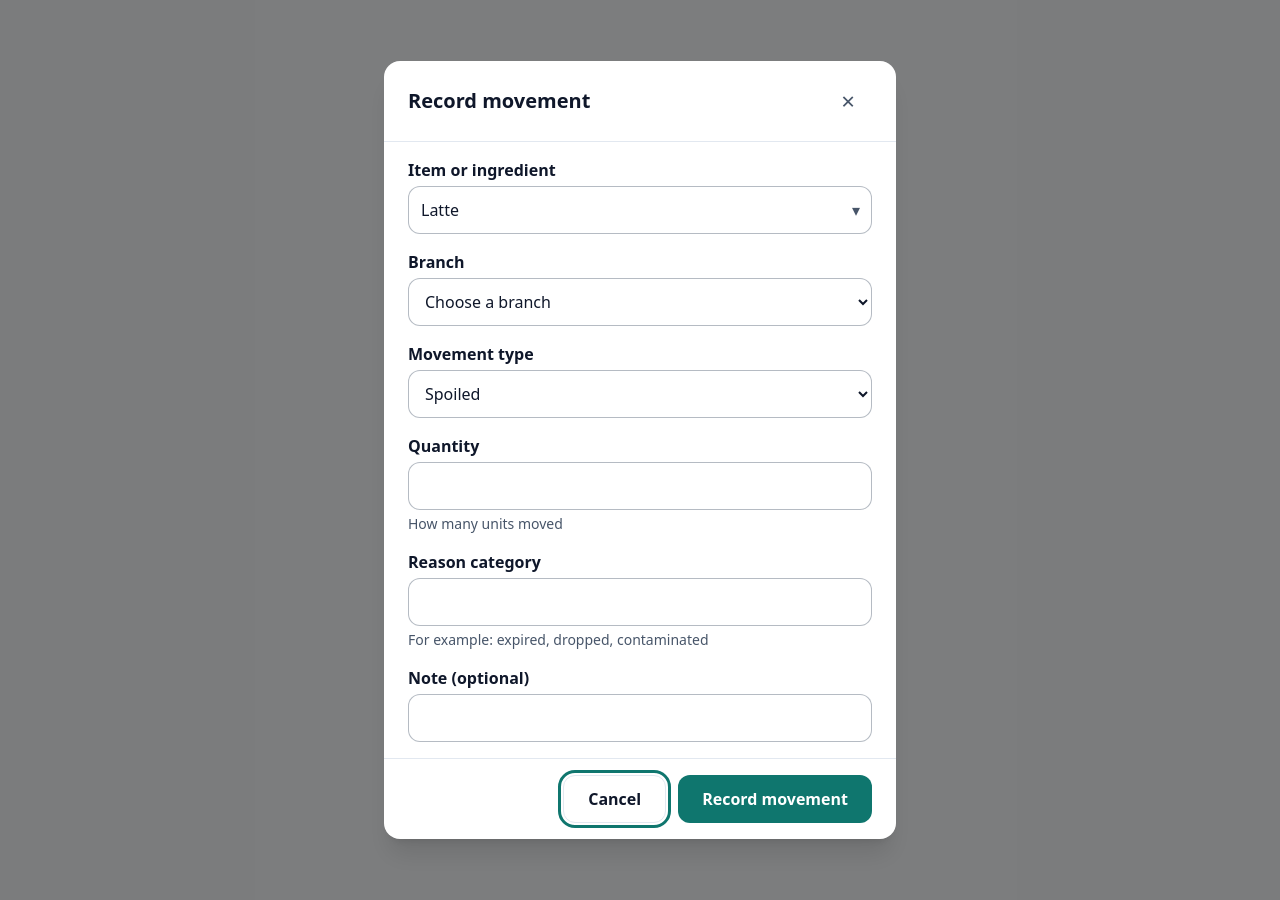
Scenario: RecordMovementDialog › asks for a reason when the movement is spoilage and blocks the send
Select "Katipunan" in the dropdown labelled "Branch". click: x=640, y=302
box: [408,278,872,326]
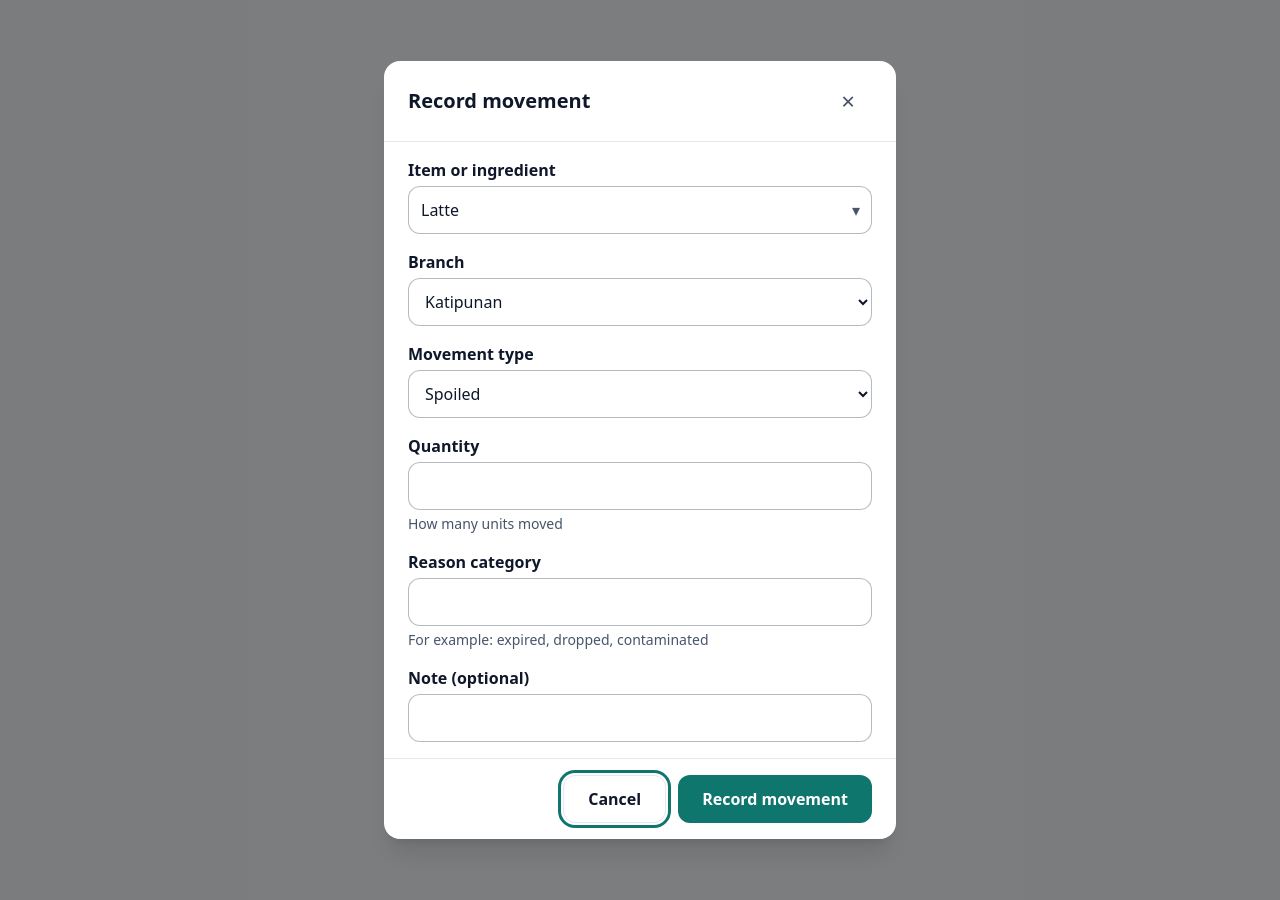
Type "2" into the number field labelled "Quantity". click: x=640, y=486
box: [408,462,872,510]
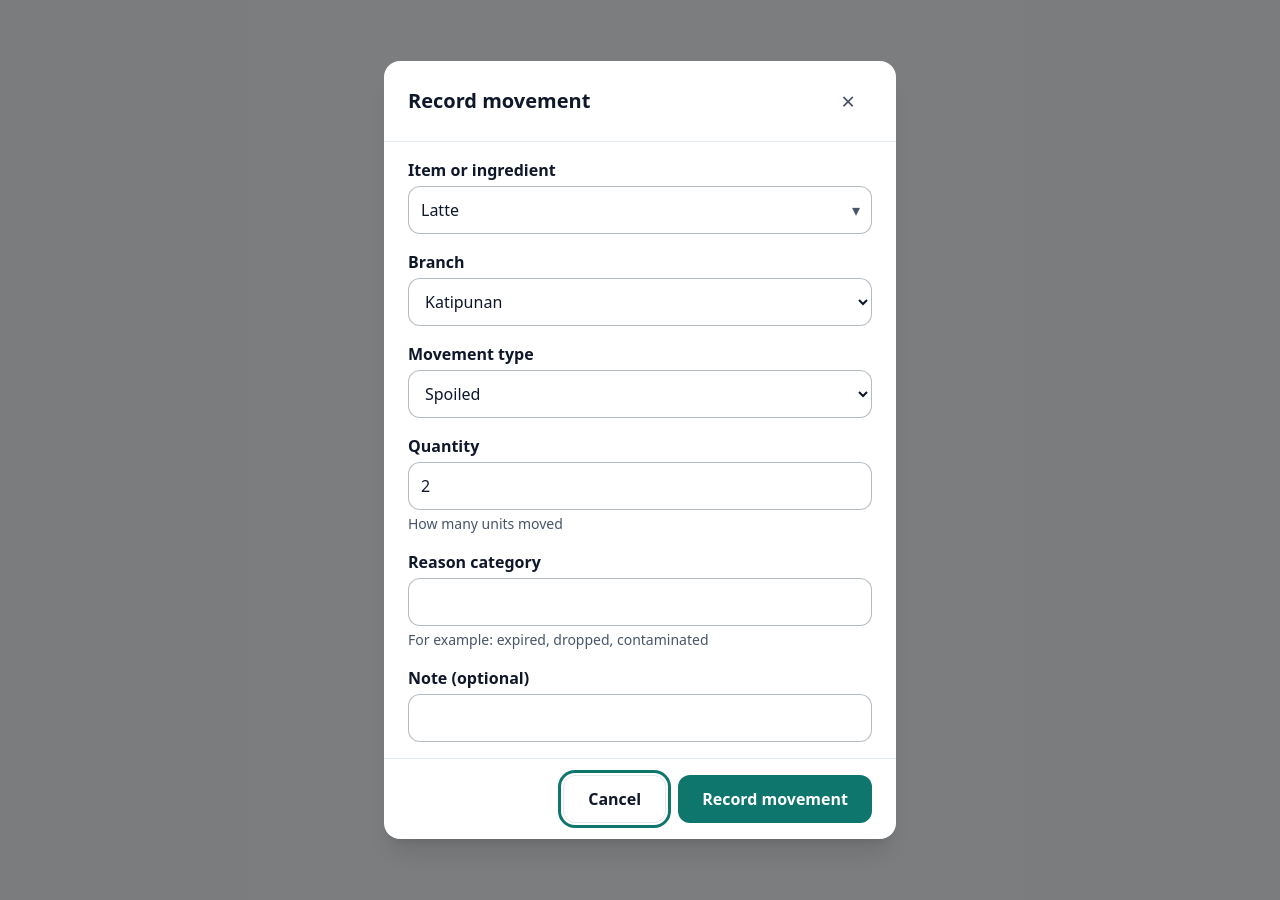
Click the button "Record movement". click: x=775, y=799
box: [678,775,872,823]
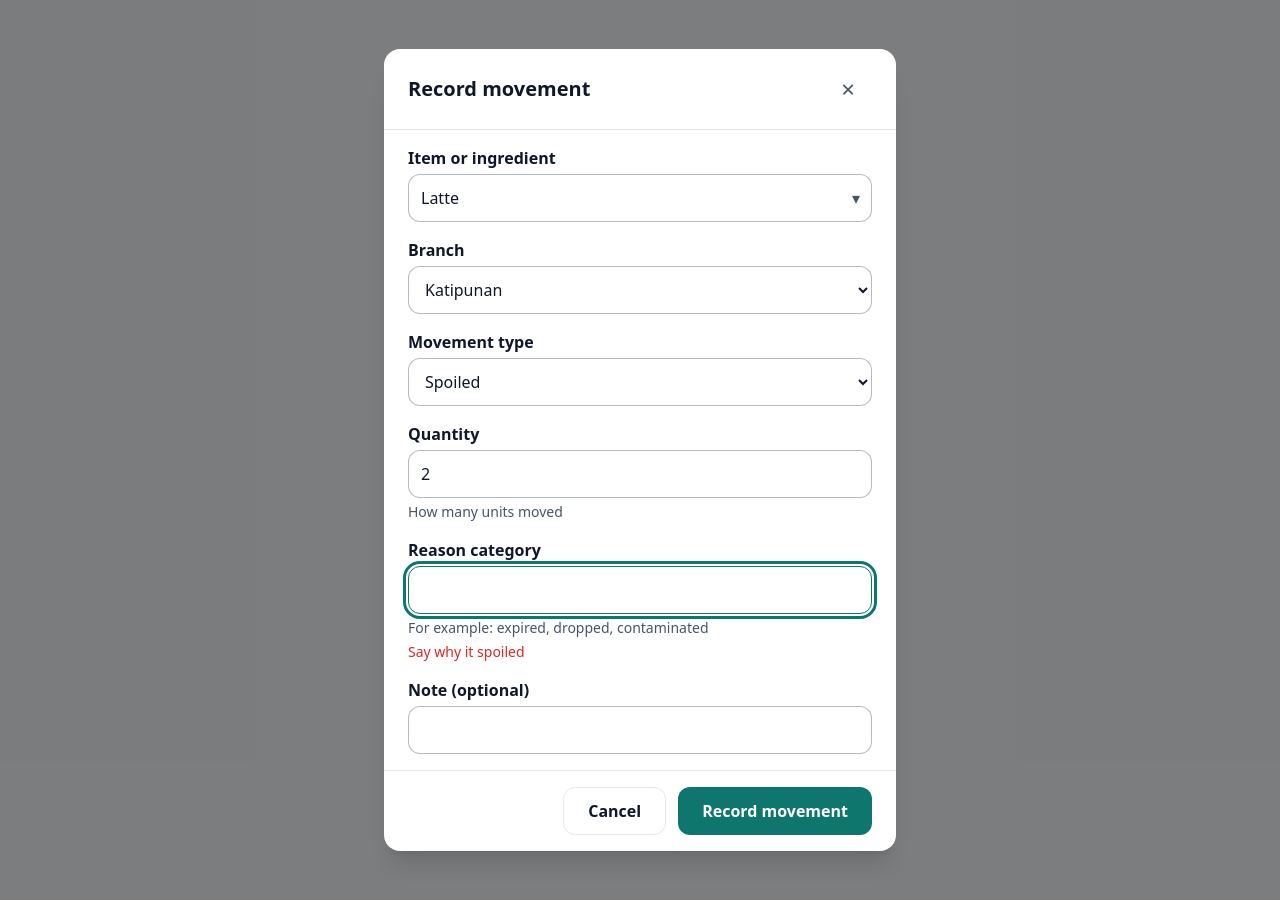
Result: the text "Say why it spoiled" is shown at [408,642,525,661]
